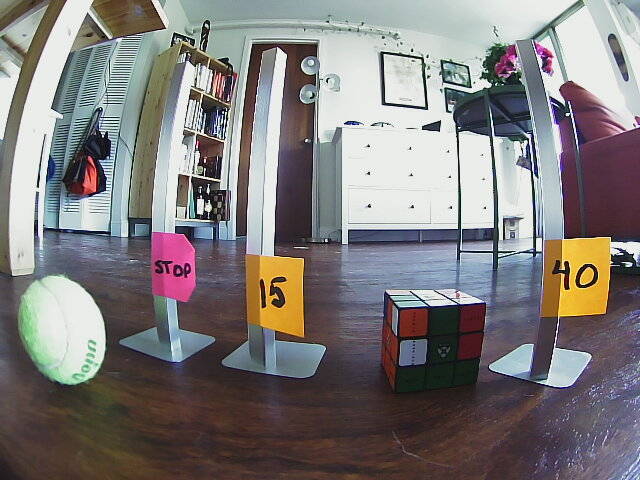15: (251, 259, 302, 324)
40: (543, 243, 606, 313)
ball: (20, 274, 107, 383)
cube: (380, 290, 487, 388)
stop: (151, 240, 194, 291)
